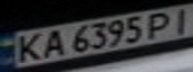3: (87, 19, 112, 51)
5: (124, 14, 151, 44)
6: (66, 23, 90, 53)
9: (106, 17, 130, 47)
A: (36, 27, 69, 60)
I: (163, 4, 193, 34)
K: (9, 30, 48, 64)
P: (142, 9, 181, 39)
